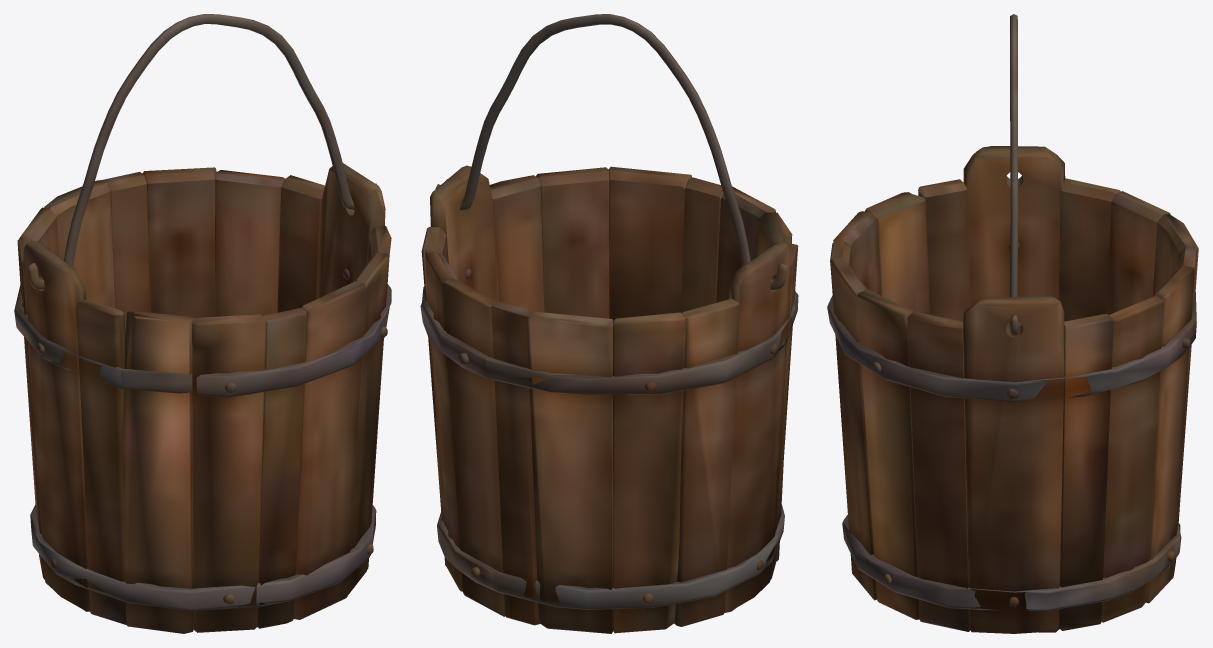
3 renders of one model, left to right at view 1: azimuth 30°, elevation 25°; view 2: azimuth 150°, elevation 25°; view 3: azimuth 270°, elevation 25°, orthographic.
Parts seen in each view (by area): view 1: wooden_bucket_01, wooden_bucket_01_handle; view 2: wooden_bucket_01, wooden_bucket_01_handle; view 3: wooden_bucket_01, wooden_bucket_01_handle.
Part boxes in pixels (<box>): wooden_bucket_01: <box>14,163,391,633</box>; wooden_bucket_01_handle: <box>28,14,376,289</box>; wooden_bucket_01: <box>420,165,798,633</box>; wooden_bucket_01_handle: <box>435,14,787,290</box>; wooden_bucket_01: <box>827,146,1198,633</box>; wooden_bucket_01_handle: <box>1009,14,1018,336</box>.
Size of the model in its own units: 0.367 by 0.5499 by 0.3419.
Materials: 1 (1 with a texture image).
